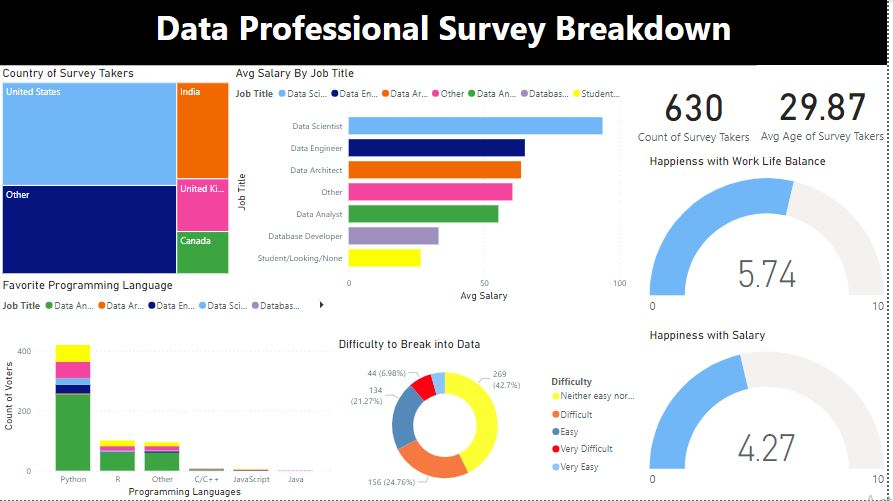

Layout of this report page (visuals, bound fields, positions):
{"tool":"powerbi","page":{"name":"Page 1","canvas":[1280,720],"ordinal":0},"visuals":[{"type":"textbox","box":[0,0,1280,94.1],"z":0},{"type":"card","fields":{"Values":["Count(Data Professional Survey.Unique ID)"]},"box":[908.8,95.7,183.1,127.7],"z":1000},{"type":"card","fields":{"Values":["Avg(Data Professional Survey.Q10 - Current Age)"]},"box":[1091.9,94.1,188.1,127.7],"z":2000},{"type":"barChart","title":"Avg Salary By Job Title","fields":{"Category":["Data Professional Survey.Q1 - Which Title Best Fits your Current Role?.1"],"Y":["Avg(Data Professional Survey.Avg Salary)"],"Series":["Data Professional Survey.Q1 - Which Title Best Fits your Current Role?.1"]},"box":[336,95.7,572.8,344.4],"z":3000},{"type":"columnChart","title":"Favorite Programming Language","fields":{"Category":["Data Professional Survey.Q5 - Favorite Programming Language.1"],"Y":["CountNonNull(Data Professional Survey.Unique ID)"],"Series":["Data Professional Survey.Q1 - Which Title Best Fits your Current Role?.1"]},"box":[0,399.8,483.8,320.8],"z":4000},{"type":"treemap","title":"Country of Survey Takers","fields":{"Group":["Data Professional Survey.Q11 - Which Country do you live in?.1"],"Values":["CountNonNull(Data Professional Survey.Q11 - Which Country do you live in?.1)"]},"box":[0,95.7,336,304],"z":5000},{"type":"gauge","title":"Happienss with Work Life Balance","fields":{"Y":["Avg(Data Professional Survey.Q6 - How Happy are you in your Current Position with the following? (Work/Life Balance))"],"MinValue":["Min(Data Professional Survey.Q6 - How Happy are you in your Current Position with the following? (Work/Life Balance))"],"MaxValue":["Max(Data Professional Survey.Q6 - How Happy are you in your Current Position with the following? (Work/Life Balance))1"]},"box":[932.3,221.7,347.7,250.3],"z":6000},{"type":"gauge","title":"Happiness with Salary","fields":{"Y":["Avg(Data Professional Survey.Q6 - How Happy are you in your Current Position with the following? (Salary))"],"MinValue":["Min(Data Professional Survey.Q6 - How Happy are you in your Current Position with the following? (Salary))"],"MaxValue":["Max(Data Professional Survey.Q6 - How Happy are you in your Current Position with the following? (Salary))"]},"box":[932.3,472,347.7,248.6],"z":7000},{"type":"donutChart","title":"Difficulty to Break into Data","fields":{"Category":["Data Professional Survey.Q7 - How difficult was it for you to break into Data?"],"Y":["CountNonNull(Data Professional Survey.Q7 - How difficult was it for you to break into Data?)"]},"box":[483.8,485.5,448.5,235.2],"z":8000}]}

Visuals, with their boxes in screenshot pixels (x1, y1, x2, y2), scaled from the page's 1280x720 canvas onto the 893x501 screenshot:
textbox: (0,0,892,65)
card - Count(Data Professional Survey.Unique ID): (634,67,762,155)
card - Avg(Data Professional Survey.Q10 - Current Age): (762,65,892,154)
"Avg Salary By Job Title" barChart: (234,67,634,306)
"Favorite Programming Language" columnChart: (0,278,338,500)
"Country of Survey Takers" treemap: (0,67,234,278)
"Happienss with Work Life Balance" gauge: (650,154,892,328)
"Happiness with Salary" gauge: (650,328,892,500)
"Difficulty to Break into Data" donutChart: (338,338,650,500)
